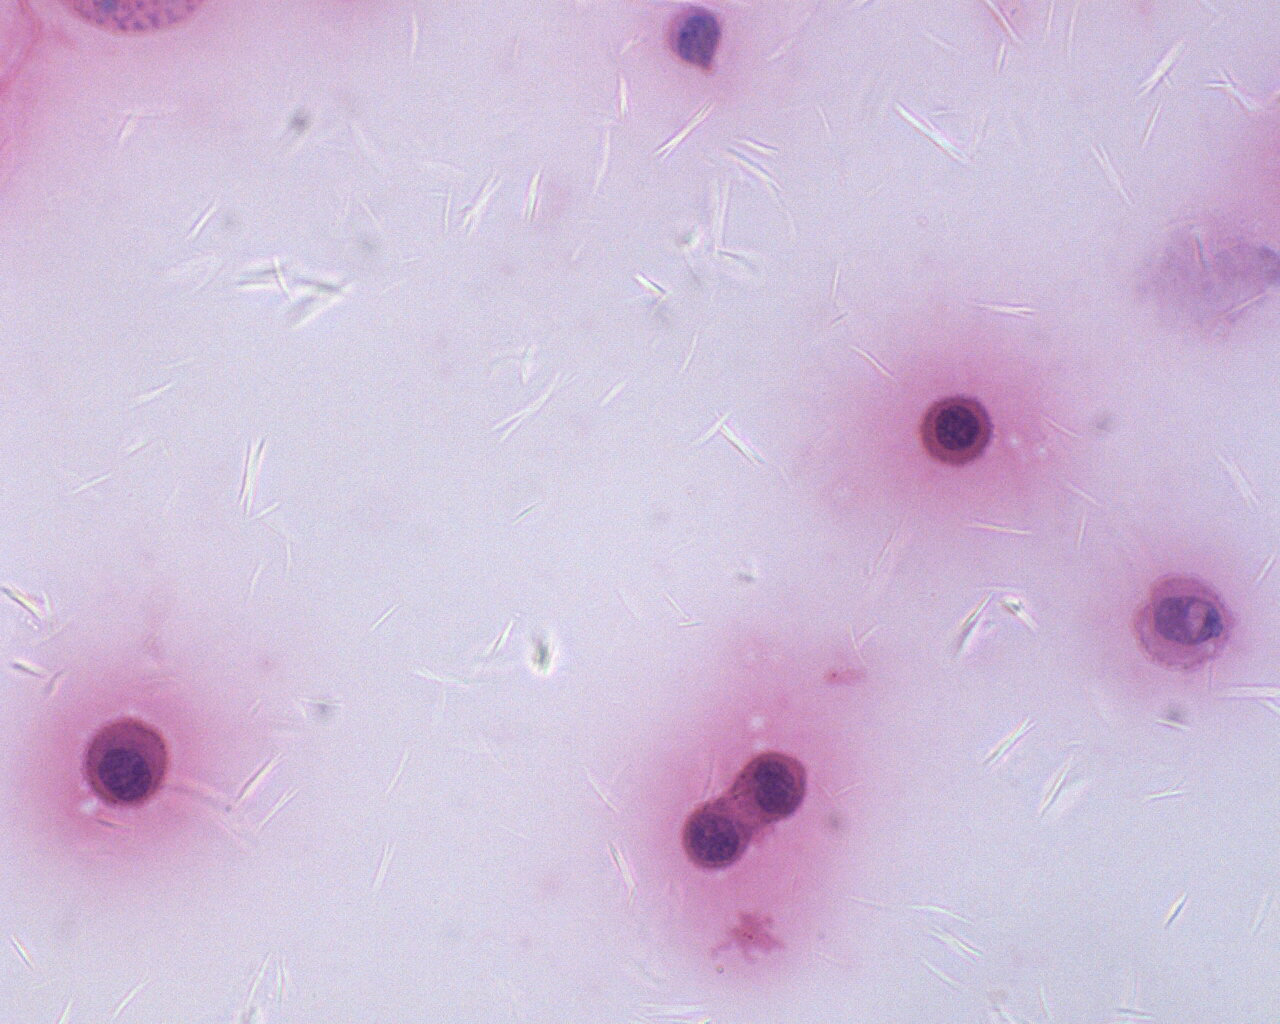ab: (1126, 566, 1238, 681), (732, 750, 812, 829), (918, 393, 996, 470), (683, 794, 750, 874)
meso: (73, 714, 170, 810)
